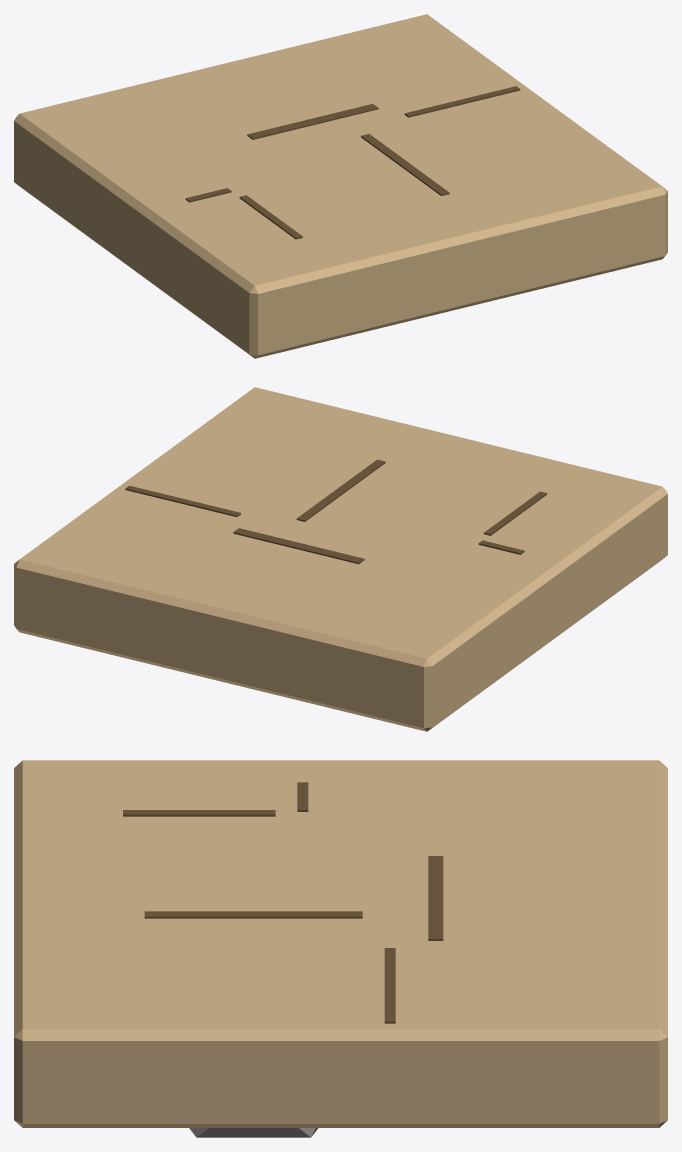
File: crumble_platform.glb
3 views of the same model, one above another, from view 1: azimuth 30°, elevation 25°; view 2: azimuth 150°, elevation 25°; view 3: azimuth 270°, elevation 25° (orthographic). The views are drawn at different scales.
Parts seen in each view (by area): view 1: CrumbleMesh; view 2: CrumbleMesh; view 3: CrumbleMesh.
Boxes of the visible parts, x1,y1,x2,y2 form: CrumbleMesh: (14,14,667,358); CrumbleMesh: (14,387,667,731); CrumbleMesh: (14,760,667,1137).
Bounding box in the file's own units: 3 × 0.91 × 3.
